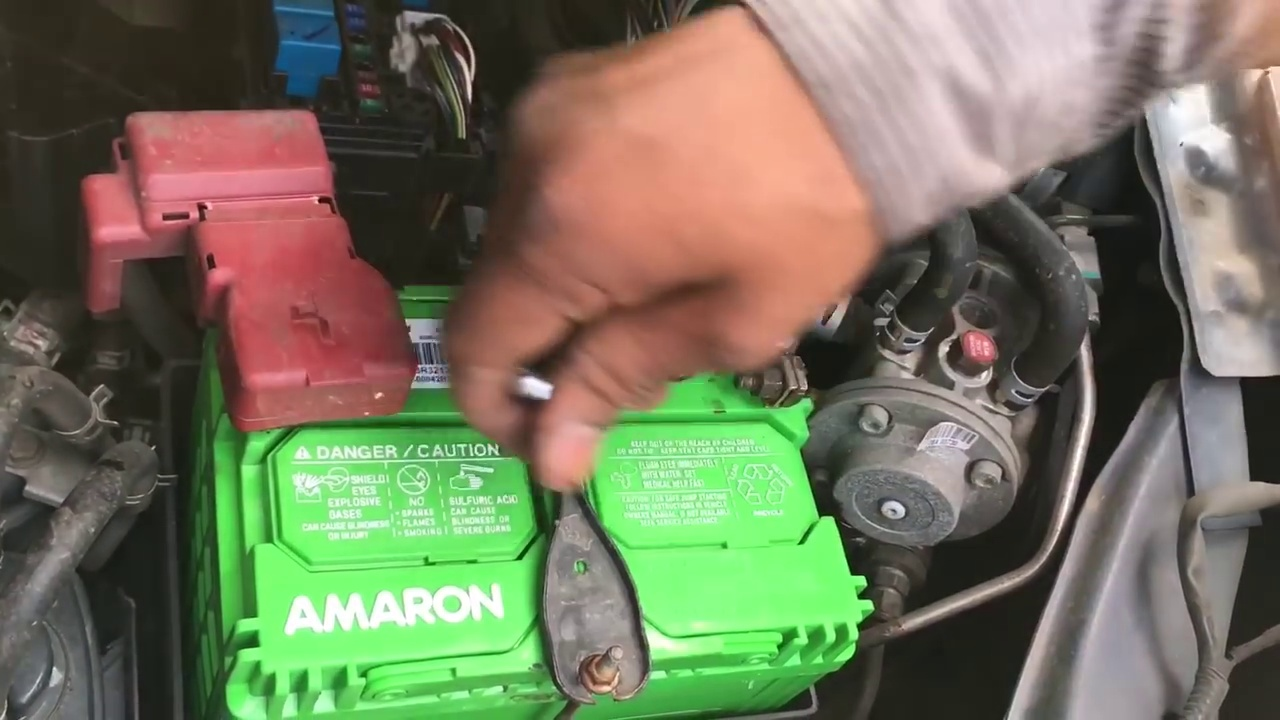battery: (195, 241, 876, 682)
pos_connected: (59, 108, 431, 433)
